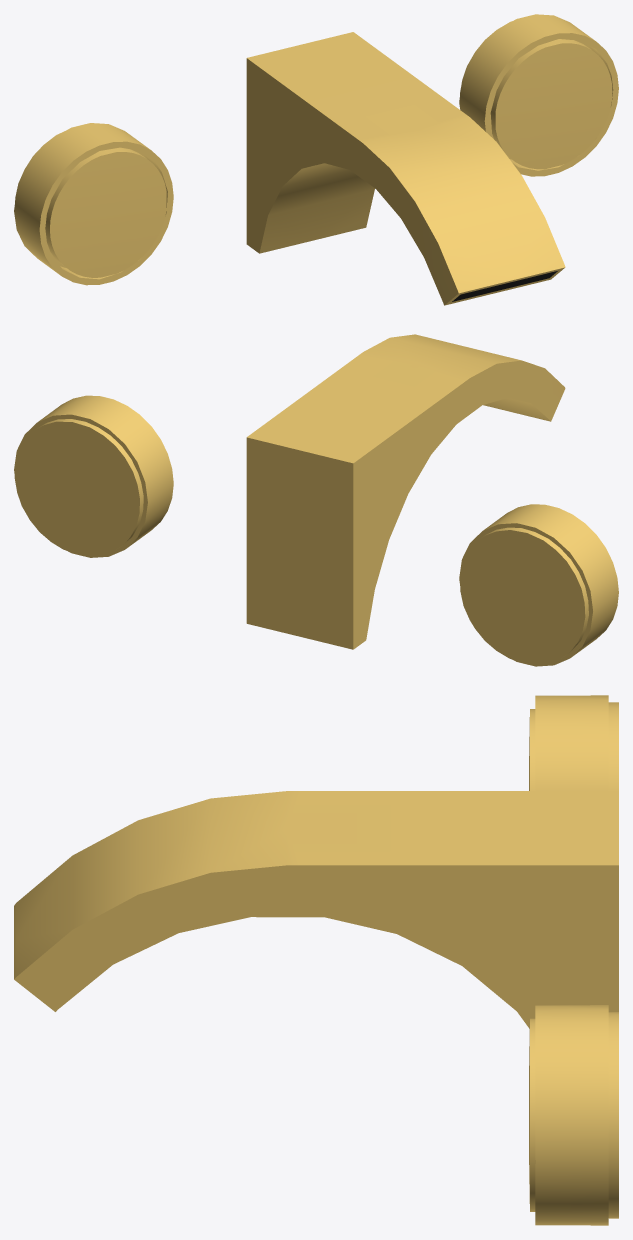
3 views of the same model, one above another, from view 1: azimuth 30°, elevation 25°; view 2: azimuth 150°, elevation 25°; view 3: azimuth 270°, elevation 25° (orthographic). The views are drawn at different scales.
Visible parts, largest first — view 1: L_89ed23ff_7257_4f8e_8448_b50cb2aa9b0f_I5, L_05b23ed2_07e8_4eea_90af_f322482bd515_I2, L_b1281abf_6b41_4cd9_b44f_19ba4e85e356_I7, L_bd66c7ff_f74c_459f_9ca8_8dcd0e11f8fc_I8, L_090eeed1_7f41_4e58_a59d_32f112086c07_I3, L_02e41cbb_ec39_4ad6_bd15_9f65e2306764_I1; view 2: L_89ed23ff_7257_4f8e_8448_b50cb2aa9b0f_I5, L_affabbd1_dc29_43bb_9194_fe9bbb239b28_I6, L_8646b5be_083e_4f2d_bf4e_cedfd24cd3f5_I4, L_bd66c7ff_f74c_459f_9ca8_8dcd0e11f8fc_I8, L_090eeed1_7f41_4e58_a59d_32f112086c07_I3; view 3: L_89ed23ff_7257_4f8e_8448_b50cb2aa9b0f_I5, L_090eeed1_7f41_4e58_a59d_32f112086c07_I3, L_bd66c7ff_f74c_459f_9ca8_8dcd0e11f8fc_I8, L_8646b5be_083e_4f2d_bf4e_cedfd24cd3f5_I4, L_b1281abf_6b41_4cd9_b44f_19ba4e85e356_I7, L_affabbd1_dc29_43bb_9194_fe9bbb239b28_I6.
Boxes of the visible parts, left/top/right/bottom form: L_89ed23ff_7257_4f8e_8448_b50cb2aa9b0f_I5: left=246, top=32, right=565, bottom=305; L_05b23ed2_07e8_4eea_90af_f322482bd515_I2: left=45, top=147, right=166, bottom=277; L_b1281abf_6b41_4cd9_b44f_19ba4e85e356_I7: left=490, top=39, right=612, bottom=169; L_bd66c7ff_f74c_459f_9ca8_8dcd0e11f8fc_I8: left=14, top=123, right=173, bottom=285; L_090eeed1_7f41_4e58_a59d_32f112086c07_I3: left=459, top=14, right=618, bottom=176; L_02e41cbb_ec39_4ad6_bd15_9f65e2306764_I1: left=452, top=271, right=557, bottom=301; L_89ed23ff_7257_4f8e_8448_b50cb2aa9b0f_I5: left=246, top=334, right=565, bottom=649; L_affabbd1_dc29_43bb_9194_fe9bbb239b28_I6: left=460, top=527, right=588, bottom=664; L_8646b5be_083e_4f2d_bf4e_cedfd24cd3f5_I4: left=14, top=419, right=143, bottom=556; L_bd66c7ff_f74c_459f_9ca8_8dcd0e11f8fc_I8: left=459, top=504, right=618, bottom=666; L_090eeed1_7f41_4e58_a59d_32f112086c07_I3: left=14, top=395, right=173, bottom=557; L_89ed23ff_7257_4f8e_8448_b50cb2aa9b0f_I5: left=14, top=791, right=618, bottom=1028; L_090eeed1_7f41_4e58_a59d_32f112086c07_I3: left=535, top=1005, right=608, bottom=1225; L_bd66c7ff_f74c_459f_9ca8_8dcd0e11f8fc_I8: left=535, top=695, right=608, bottom=790; L_8646b5be_083e_4f2d_bf4e_cedfd24cd3f5_I4: left=608, top=1012, right=618, bottom=1218; L_b1281abf_6b41_4cd9_b44f_19ba4e85e356_I7: left=529, top=1018, right=535, bottom=1211; L_affabbd1_dc29_43bb_9194_fe9bbb239b28_I6: left=608, top=702, right=618, bottom=790.
Size of the model in its own units: 0.2603 by 0.08 by 0.1651.
